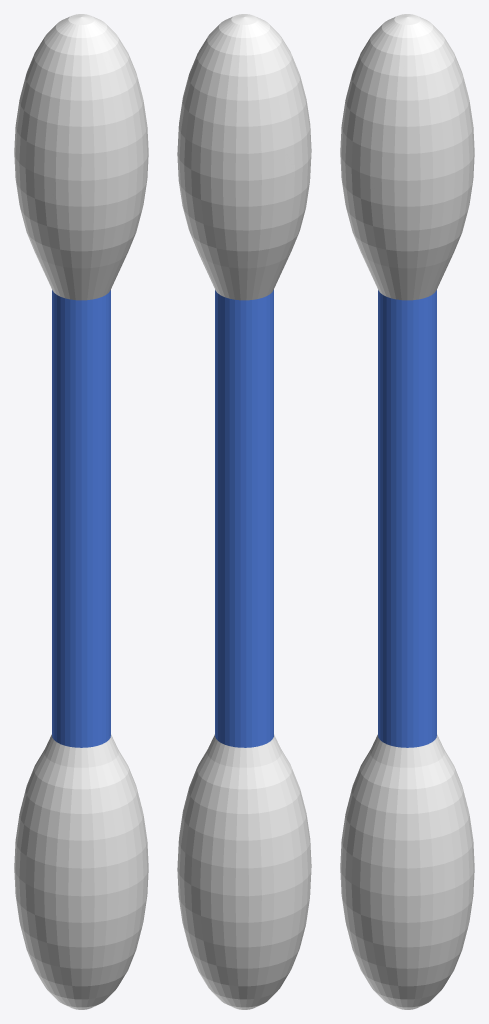
File: Paus.glb
The picture shows the model from 3 angles, left to right: view 1: azimuth 90°, elevation 25°; view 2: azimuth 150°, elevation 25°; view 3: azimuth 270°, elevation 25°; orthographic projection.
Visible parts, largest first — view 1: Sphere, Sphere.001, Cylinder; view 2: Sphere, Sphere.001, Cylinder; view 3: Sphere, Sphere.001, Cylinder.
Part boxes in pixels (<box>): Sphere: <box>14,14,148,300</box>; Sphere.001: <box>14,734,148,1009</box>; Cylinder: <box>52,290,110,747</box>; Sphere: <box>177,14,311,300</box>; Sphere.001: <box>177,734,311,1009</box>; Cylinder: <box>215,290,273,747</box>; Sphere: <box>340,14,474,300</box>; Sphere.001: <box>340,734,474,1009</box>; Cylinder: <box>378,290,436,747</box>.
Size of the model in its own units: 0.0597 by 0.4853 by 0.0597.
